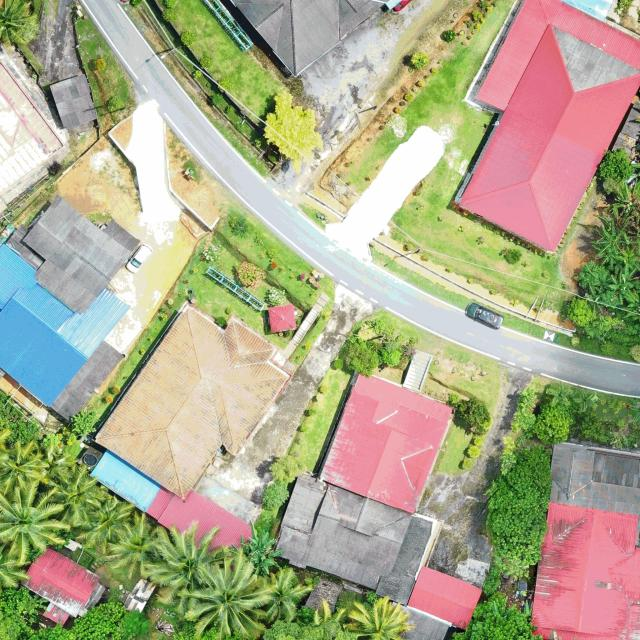Tree: (142, 520, 227, 611), (486, 474, 549, 580), (186, 559, 268, 638), (0, 479, 65, 564), (263, 89, 324, 174), (42, 464, 104, 524), (110, 511, 161, 581), (339, 595, 414, 640), (257, 567, 313, 621), (83, 495, 133, 551), (503, 445, 553, 500), (240, 519, 286, 576), (0, 440, 46, 493), (0, 0, 39, 48), (534, 400, 573, 446), (590, 217, 630, 260), (343, 336, 382, 379), (452, 397, 491, 437), (597, 146, 637, 182), (604, 180, 640, 220), (608, 262, 640, 306), (565, 296, 598, 330), (267, 454, 304, 484), (5, 419, 40, 449), (261, 478, 291, 512), (236, 259, 266, 292), (572, 259, 606, 288), (70, 410, 101, 437), (545, 380, 574, 408), (376, 342, 404, 368), (572, 390, 600, 412), (266, 287, 287, 307), (410, 51, 430, 69), (180, 29, 196, 47), (198, 54, 214, 70), (161, 8, 179, 22), (217, 77, 233, 92), (467, 444, 481, 459), (92, 58, 107, 71), (444, 29, 457, 43), (448, 393, 461, 406), (163, 0, 179, 9), (472, 9, 483, 21), (334, 358, 344, 370), (474, 436, 484, 446)
